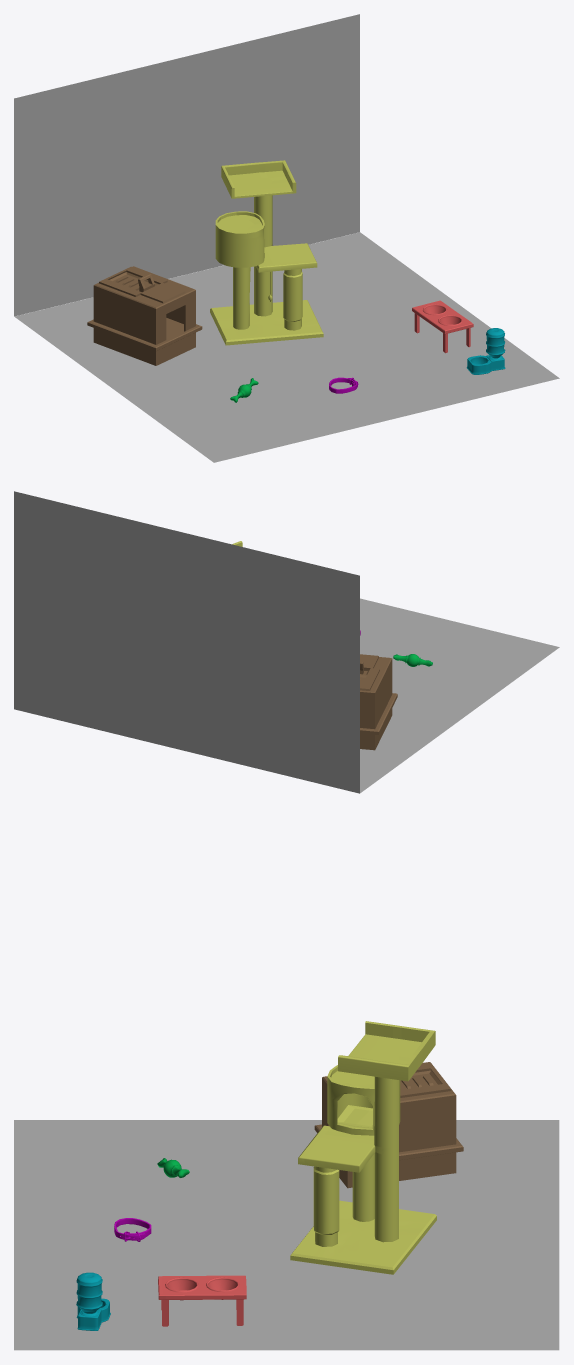
Rendered from Cat Props.fbx.
3 renders of one model, top to bottom at view 1: azimuth 30°, elevation 25°; view 2: azimuth 150°, elevation 25°; view 3: azimuth 270°, elevation 25°, orthographic. The views are drawn at different scales.
Parts seen in each view (by area): view 1: pPlane2, pPlane1, cat_tree, pCube3, bowl_food, bowl_water; view 2: pPlane2, pPlane1, pCube3; view 3: pPlane1, cat_tree, pCube3, bowl_food, bowl_water.
Part boxes in pixels (x1=…): pPlane2: x1=14, y1=14, x2=359, y2=316; pPlane1: x1=14, y1=232, x2=559, y2=462; cat_tree: x1=210, y1=160, x2=323, y2=345; pCube3: x1=87, y1=266, x2=202, y2=365; bowl_food: x1=412, y1=300, x2=473, y2=353; bowl_water: x1=466, y1=328, x2=505, y2=374; pPlane2: x1=14, y1=491, x2=359, y2=793; pPlane1: x1=360, y1=598, x2=559, y2=793; pCube3: x1=360, y1=654, x2=397, y2=750; pPlane1: x1=14, y1=1120, x2=559, y2=1350; cat_tree: x1=290, y1=1021, x2=436, y2=1274; pCube3: x1=314, y1=1062, x2=463, y2=1188; bowl_food: x1=158, y1=1275, x2=246, y2=1326; bowl_water: x1=76, y1=1272, x2=110, y2=1330.
Bounding box in the file's own units: 20 × 12.05 × 20.02.
